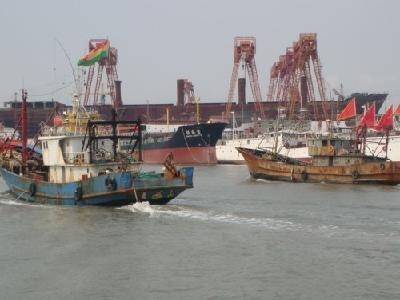otherboat: (2, 75, 199, 208), (237, 111, 400, 185)
